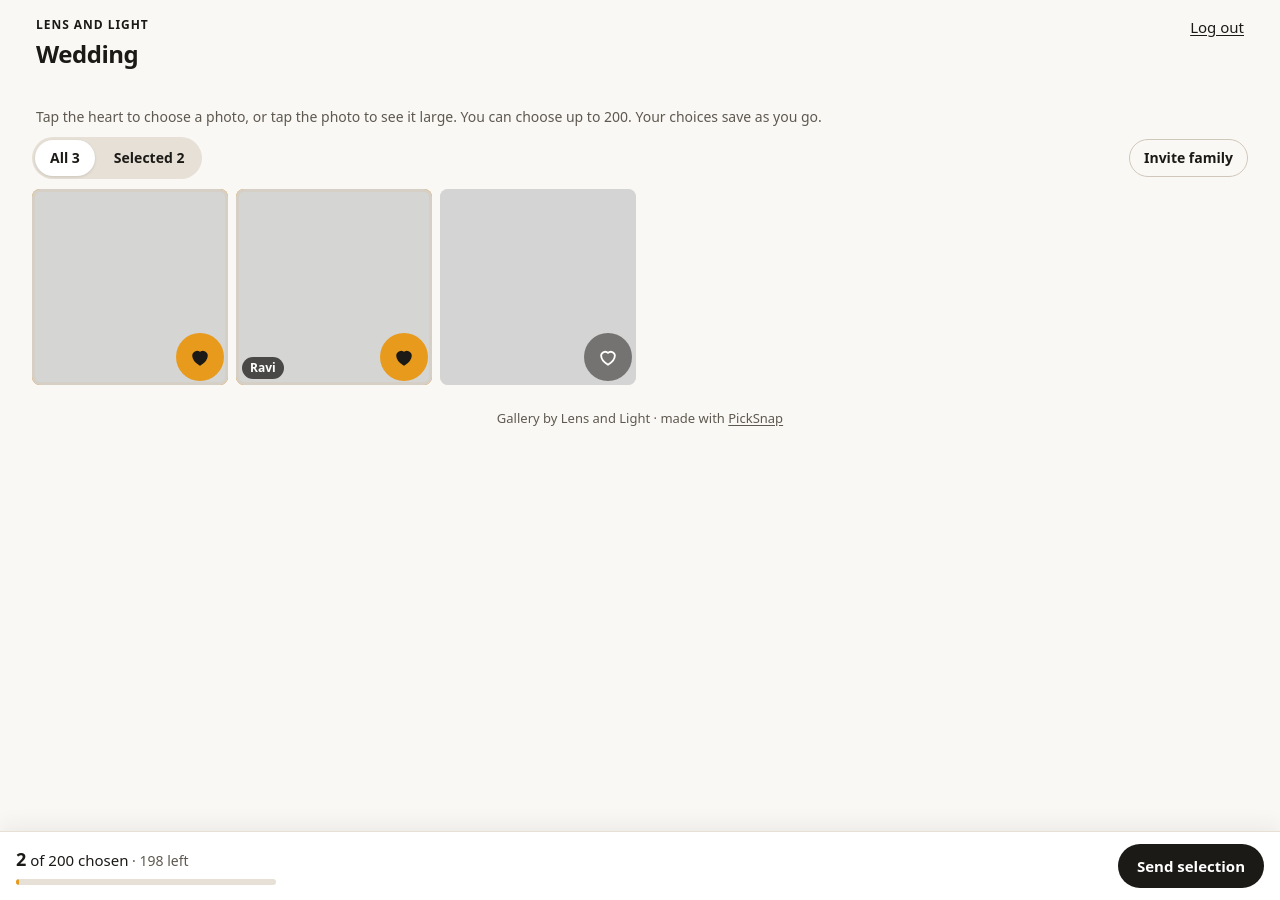
Test: the main client › sees how many each person chose before sending
Expected: the text "Ravi" is shown, [242,357,284,379]
Click the button "Send selection" at coordinates (1191, 866), box [1118,844,1264,888]
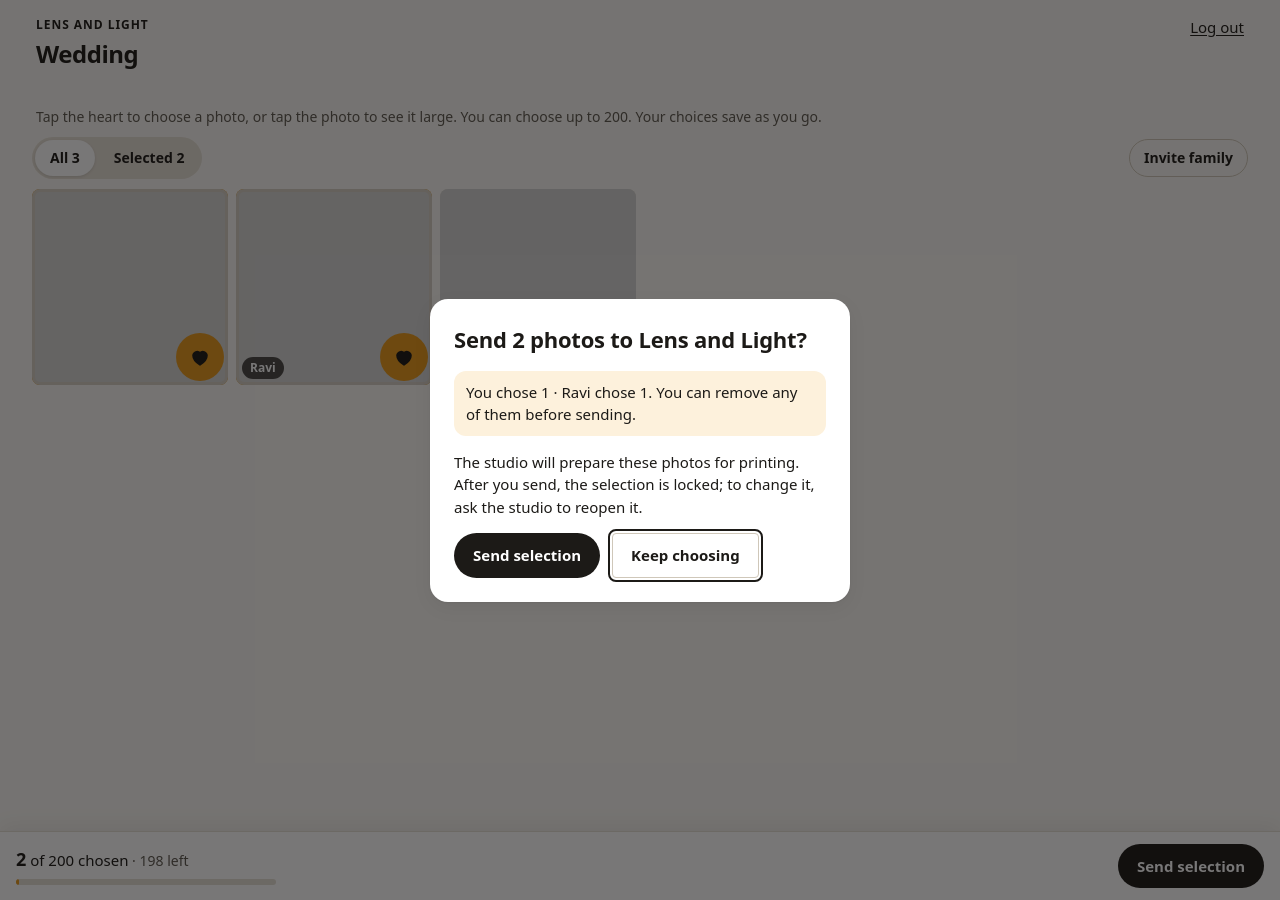
Expected: the text "You chose 1 · Ravi chose 1." is shown, [454,370,826,436]
